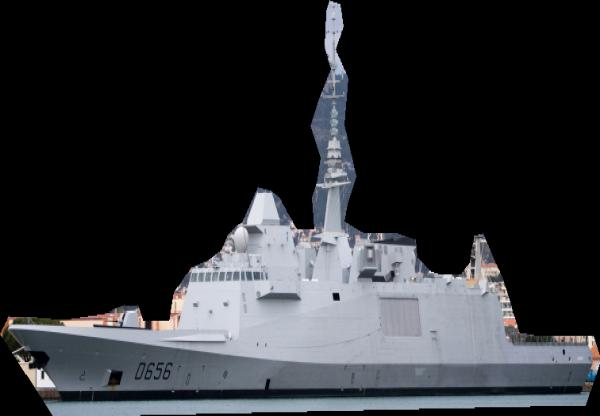DDG: (0, 0, 600, 416)
